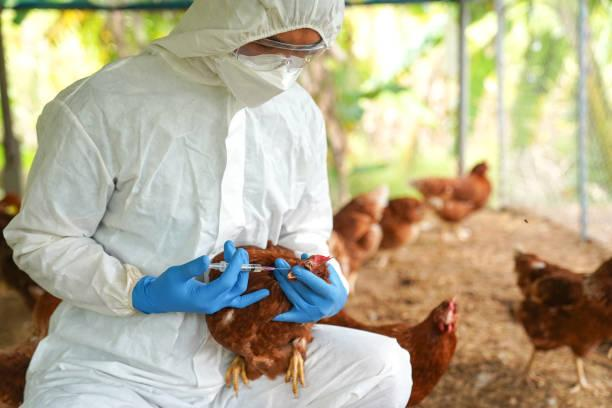Non_Gorille: (40, 2, 440, 408)
